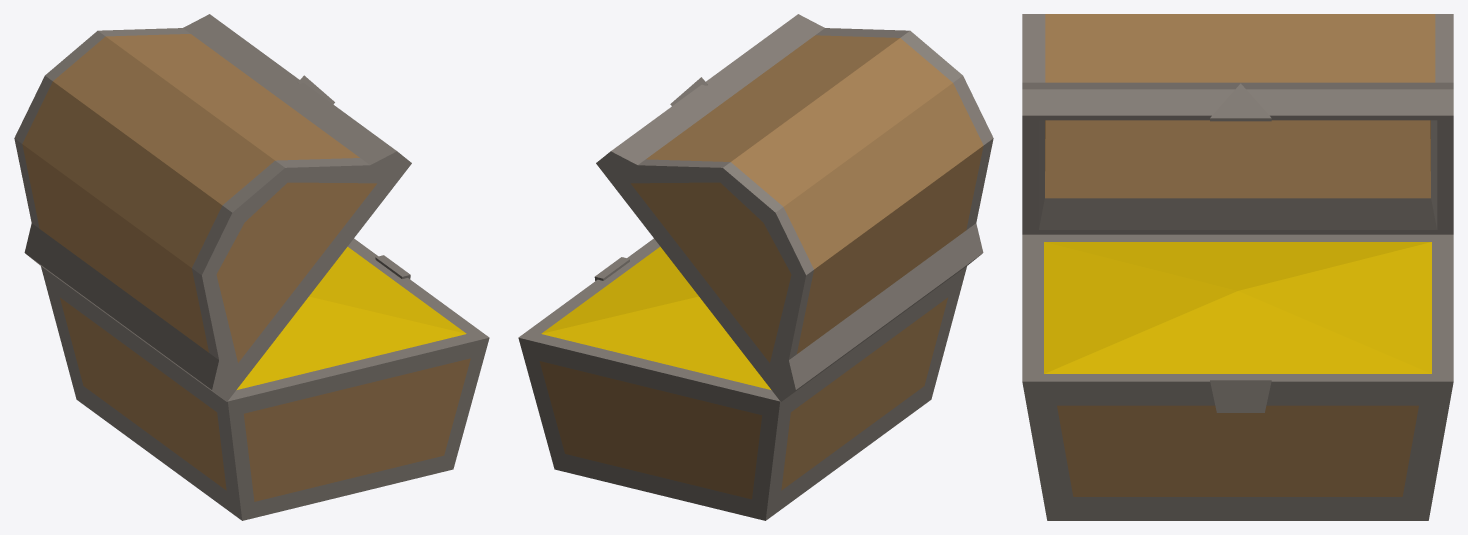
File: chest_01.fbx
The picture shows the model from 3 angles, left to right: view 1: azimuth 30°, elevation 25°; view 2: azimuth 150°, elevation 25°; view 3: azimuth 270°, elevation 25°; orthographic projection. The views are drawn at different scales.
Visible parts, largest first — view 1: chest_01_02, chest_01; view 2: chest_01_02, chest_01; view 3: chest_01, chest_01_02.
Boxes of the visible parts, x1,y1,x2,y2 form: chest_01_02: (14, 14, 411, 401); chest_01: (41, 238, 489, 520); chest_01_02: (596, 14, 993, 401); chest_01: (518, 238, 966, 520); chest_01: (1022, 234, 1453, 520); chest_01_02: (1022, 14, 1453, 234).
Bounding box in the file's own units: 85.9 × 99.81 × 96.02.
